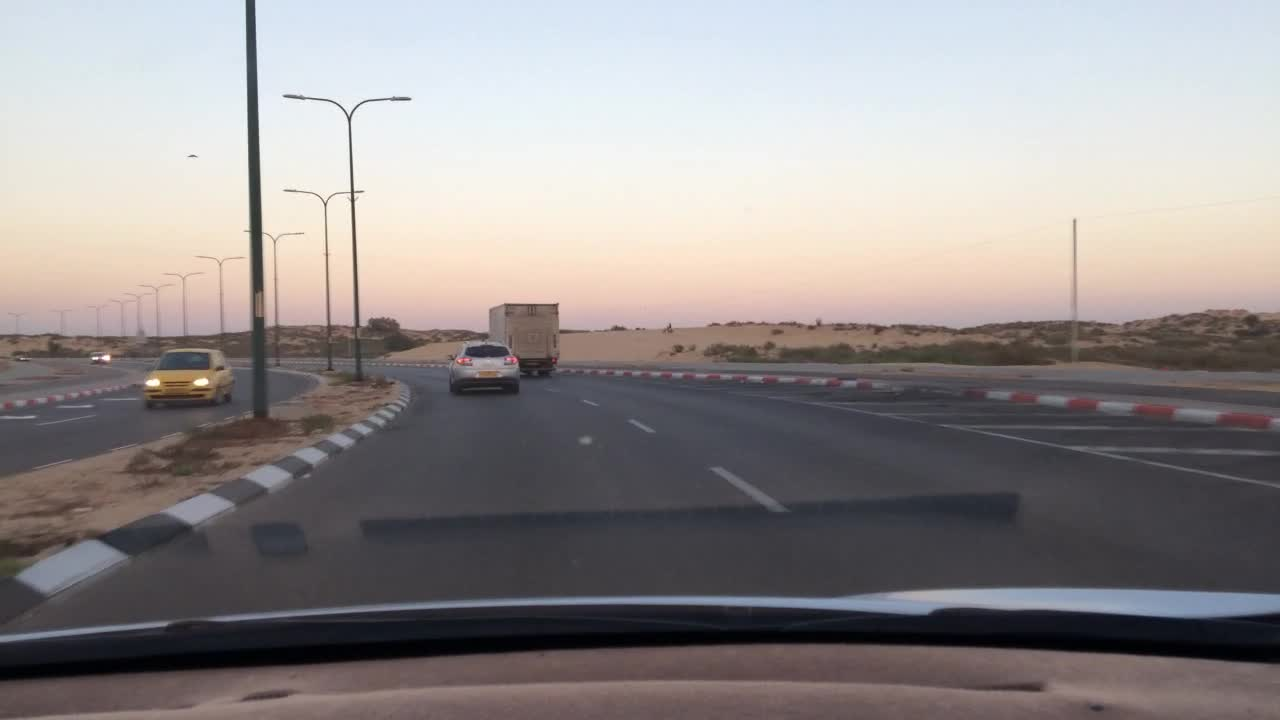car: (141, 346, 235, 406), (446, 337, 523, 396), (87, 350, 112, 364), (15, 352, 30, 361)
truck: (488, 303, 562, 374)
